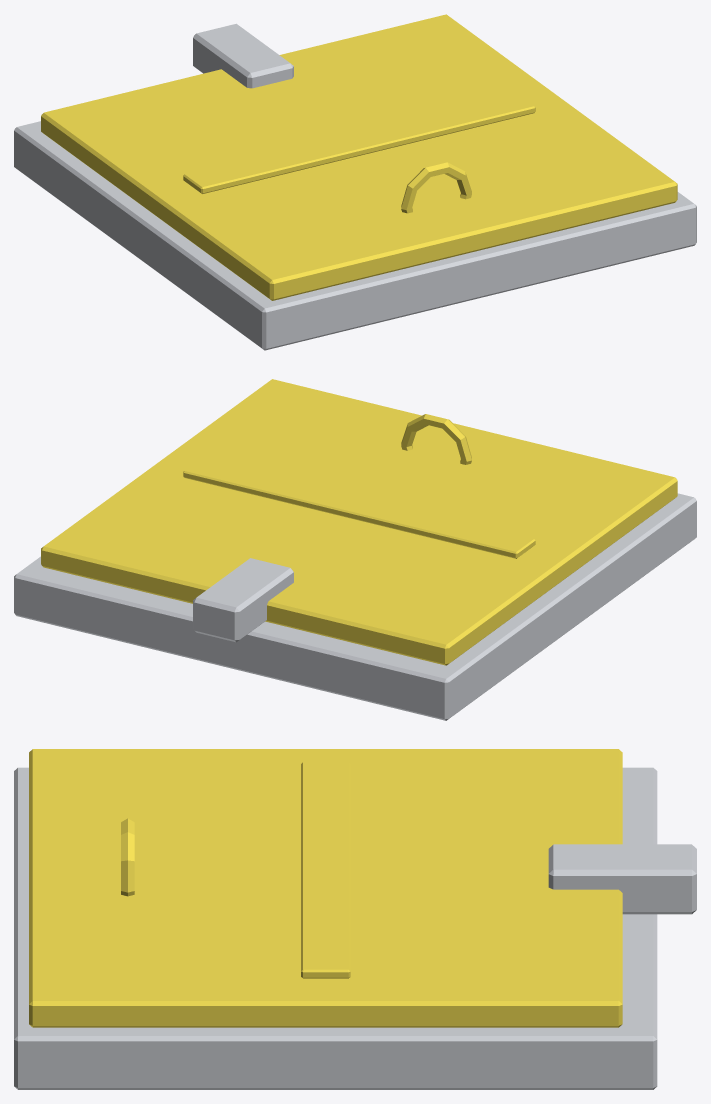
The model's file is offshore-oil-rig-and-platform-deck-access-hatch-c47a0e41__37011.glb.
3 renders of one model, top to bottom at view 1: azimuth 30°, elevation 25°; view 2: azimuth 150°, elevation 25°; view 3: azimuth 270°, elevation 25°, orthographic. The views are drawn at different scales.
Parts seen in each view (by area): view 1: deck-hatch, deck-access-hatch; view 2: deck-hatch, deck-access-hatch; view 3: deck-hatch, deck-access-hatch.
Part boxes in pixels (bbox=[...]): deck-hatch: bbox=[41, 14, 677, 300]; deck-access-hatch: bbox=[14, 23, 696, 350]; deck-hatch: bbox=[41, 379, 677, 665]; deck-access-hatch: bbox=[14, 493, 696, 720]; deck-hatch: bbox=[29, 749, 622, 1027]; deck-access-hatch: bbox=[14, 767, 696, 1089].
Bounding box in the file's own units: 1.3 × 0.2908 × 1.38.
